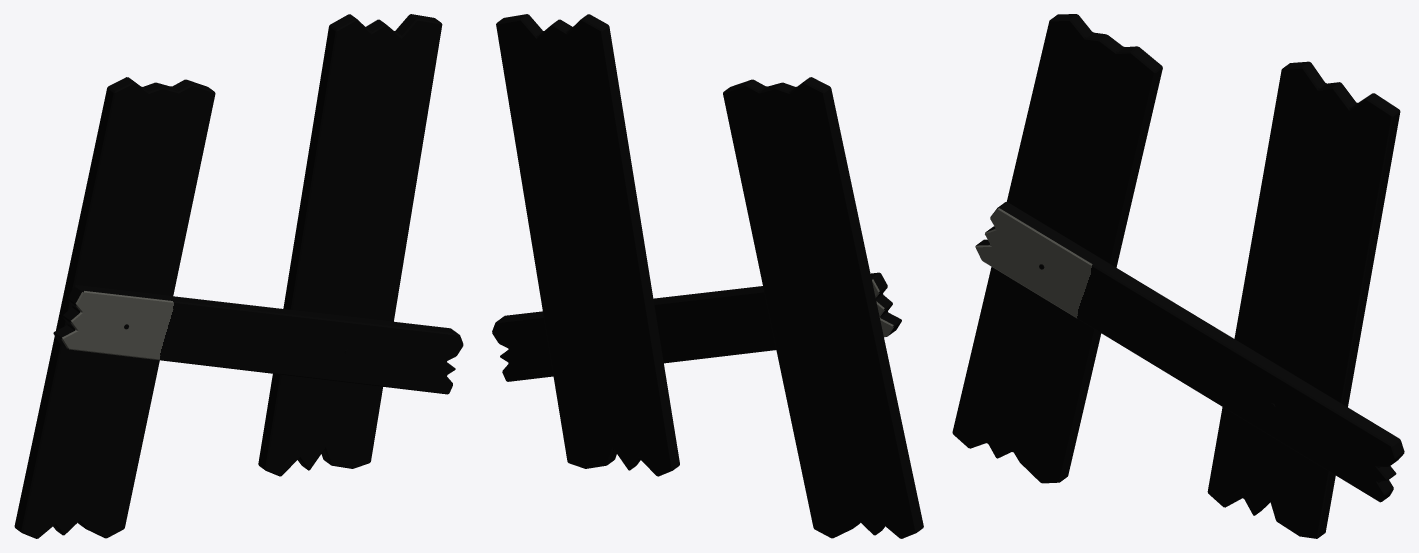
3 renders of one model, left to right at view 1: azimuth 30°, elevation 25°; view 2: azimuth 150°, elevation 25°; view 3: azimuth 330°, elevation 25°, orthographic. The views are drawn at different scales.
Size of the model in its own units: 0.9328 by 0.9436 by 0.066.
